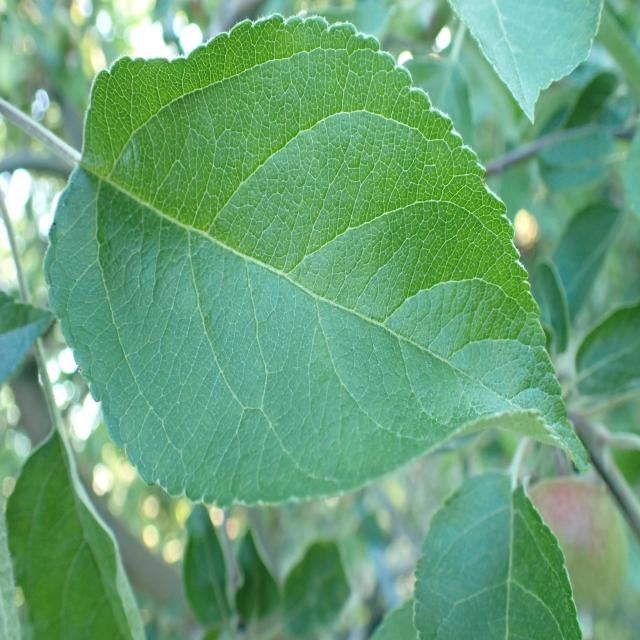healthy: (42, 11, 592, 510), (3, 428, 145, 640), (411, 469, 582, 640), (445, 0, 604, 126), (0, 290, 55, 385)
